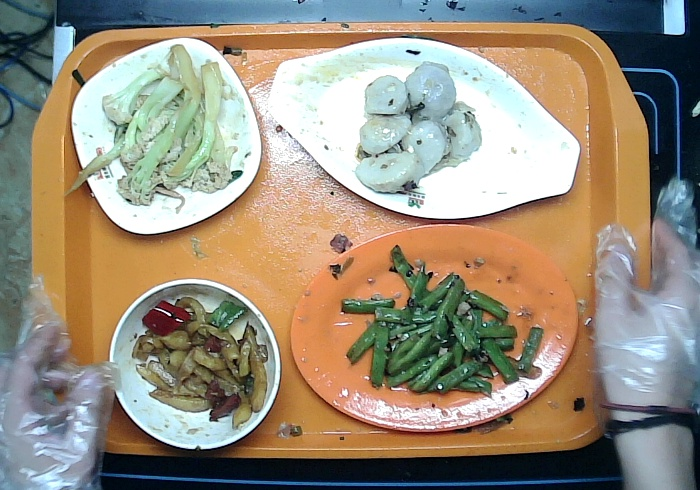NLDX-Bai_Se_Xiao_Fang_Die: (64, 32, 268, 242)
NLDX-Fan_Wan: (108, 275, 283, 451)
NLDX-Ju_Se_Pan: (285, 221, 583, 436)
NLDX-Yu_Pan: (265, 32, 583, 219)
